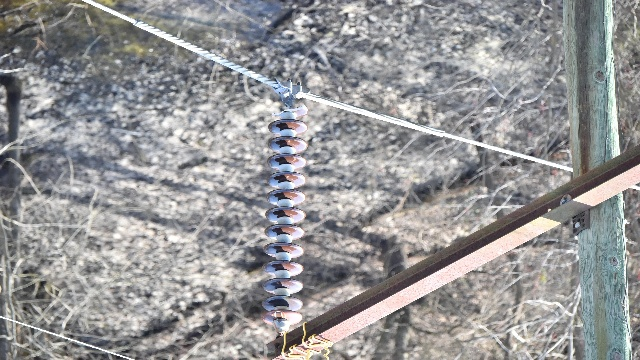broken_local: (271, 102, 306, 116)
insulator_unspecified: (261, 103, 308, 326)
